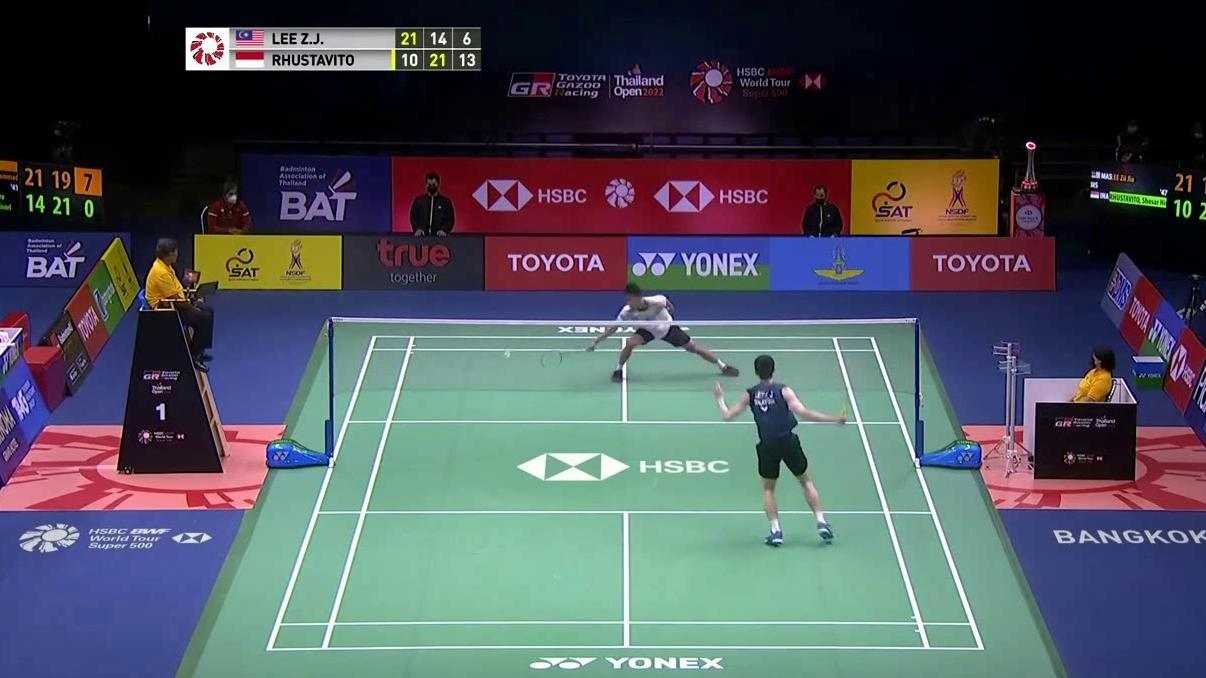racket: (539, 347, 597, 372), (839, 370, 860, 424)
shuttle: (502, 348, 513, 360)
